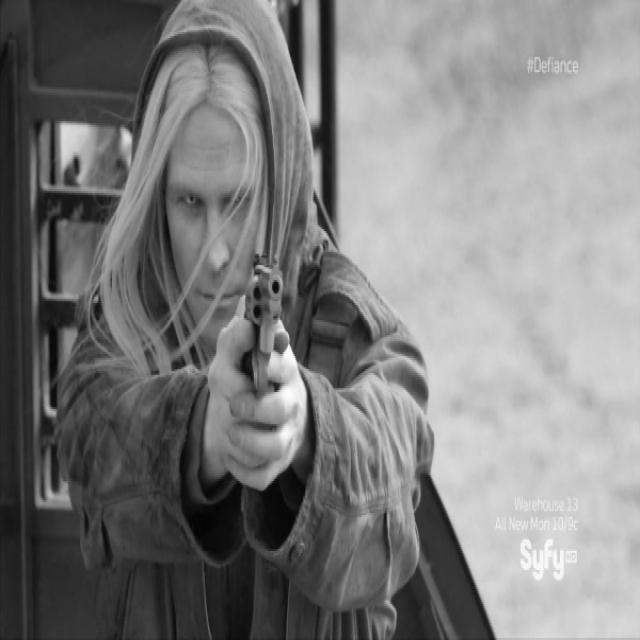weapons: (226, 236, 296, 480)
